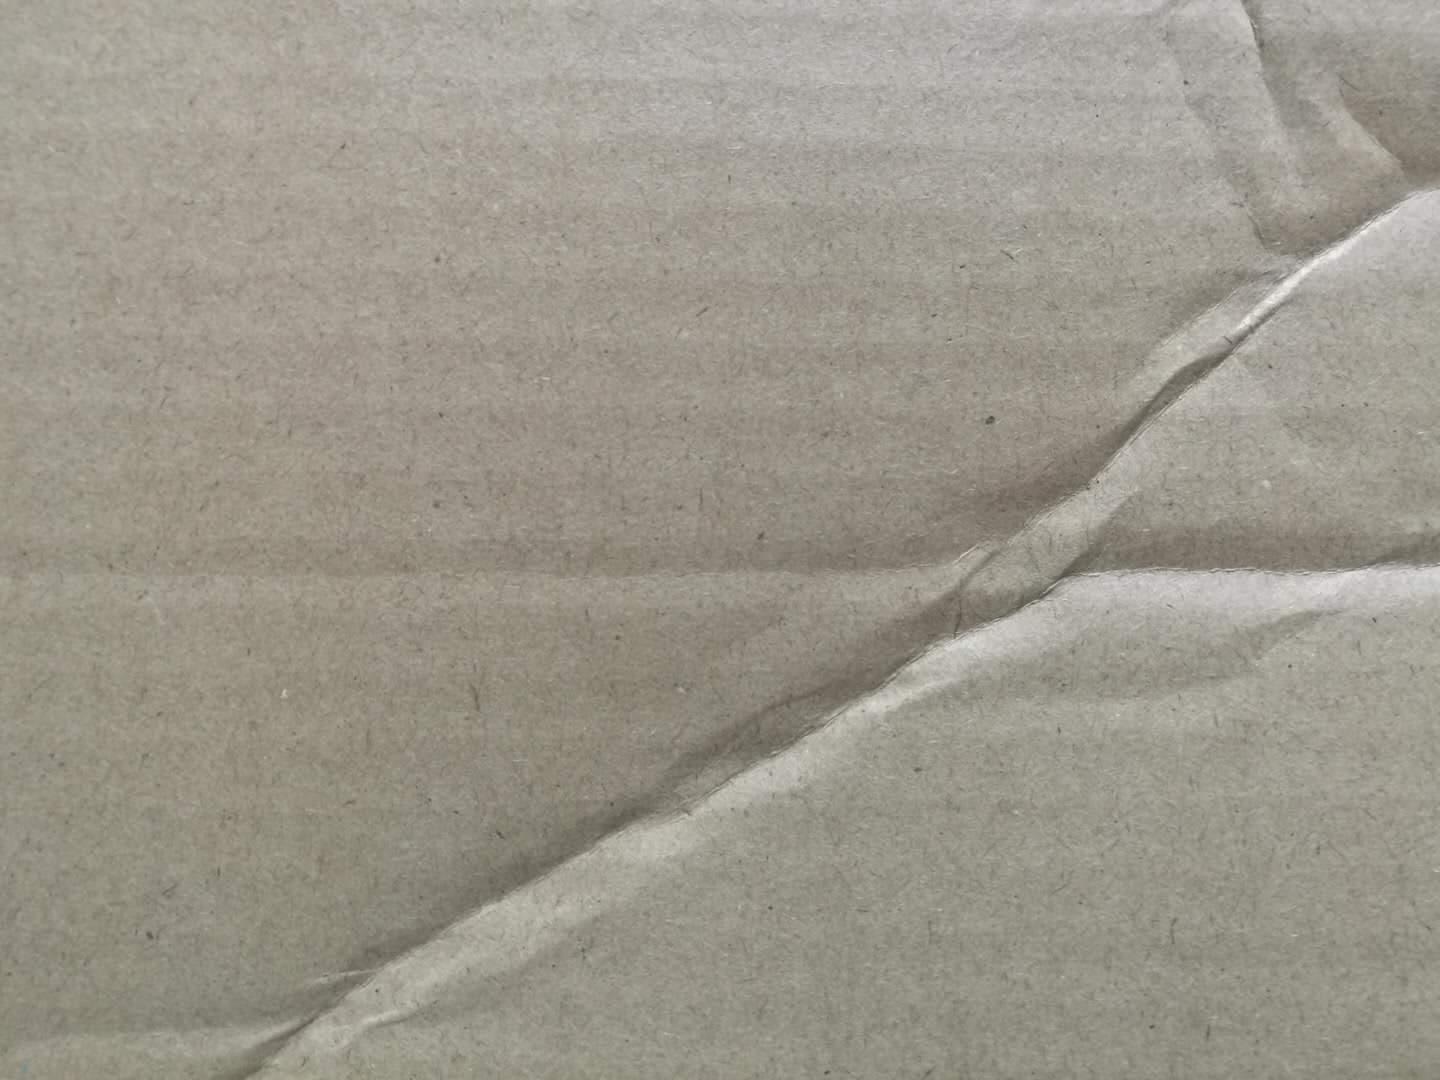defect: (200, 258, 1307, 1080), (5, 500, 1440, 667), (1124, 5, 1440, 278), (6, 959, 386, 1068)
